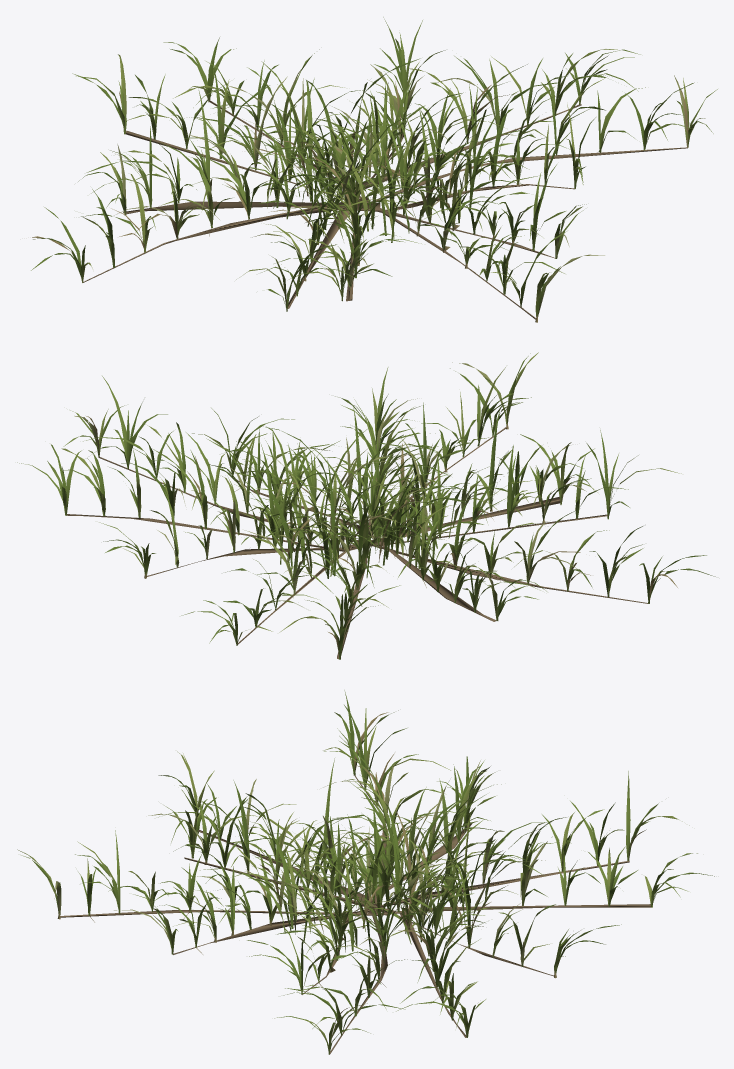
The model's file is bermuda-grass.glb.
3 renders of one model, top to bottom at view 1: azimuth 30°, elevation 25°; view 2: azimuth 150°, elevation 25°; view 3: azimuth 270°, elevation 25°, orthographic. The views are drawn at different scales.
Visible parts, largest first — view 1: Blades • Leaf green, Blades • Leaf forest, Blades • Leaf young, Blades • Leaf shaded, Stolons • Runner ochre, Blades • Leaf olive, Blades • Dry sheath; view 2: Blades • Leaf green, Blades • Leaf forest, Blades • Leaf young, Blades • Leaf shaded, Stolons • Runner ochre, Blades • Leaf olive, Blades • Dry sheath; view 3: Blades • Leaf green, Blades • Leaf forest, Blades • Leaf young, Blades • Leaf shaded, Stolons • Runner ochre, Blades • Leaf olive, Blades • Dry sheath.
Boxes of the visible parts, box(x1,y1,x2,y2) form: Blades • Leaf green: box(76, 20, 717, 316); Blades • Leaf forest: box(31, 37, 713, 316); Blades • Leaf young: box(82, 49, 705, 316); Blades • Leaf shaded: box(33, 17, 682, 311); Stolons • Runner ochre: box(83, 99, 687, 319); Blades • Leaf olive: box(111, 64, 687, 317); Blades • Dry sheath: box(32, 81, 688, 300); Blades • Leaf green: box(17, 367, 643, 659); Blades • Leaf forest: box(51, 353, 715, 659); Blades • Leaf young: box(61, 352, 681, 656); Blades • Leaf shaded: box(94, 393, 706, 623); Stolons • Runner ochre: box(67, 426, 648, 658); Blades • Leaf olive: box(74, 362, 586, 620); Blades • Dry sheath: box(86, 416, 677, 658); Blades • Leaf green: box(57, 708, 697, 1054); Blades • Leaf forest: box(21, 710, 714, 1050); Blades • Leaf young: box(17, 726, 689, 1053); Blades • Leaf shaded: box(93, 690, 621, 1029); Stolons • Runner ochre: box(60, 775, 650, 1054); Blades • Leaf olive: box(54, 760, 552, 1051); Blades • Dry sheath: box(191, 712, 646, 1041).
Bounding box in the file's own units: 0.573 × 0.0801 × 0.5231.
